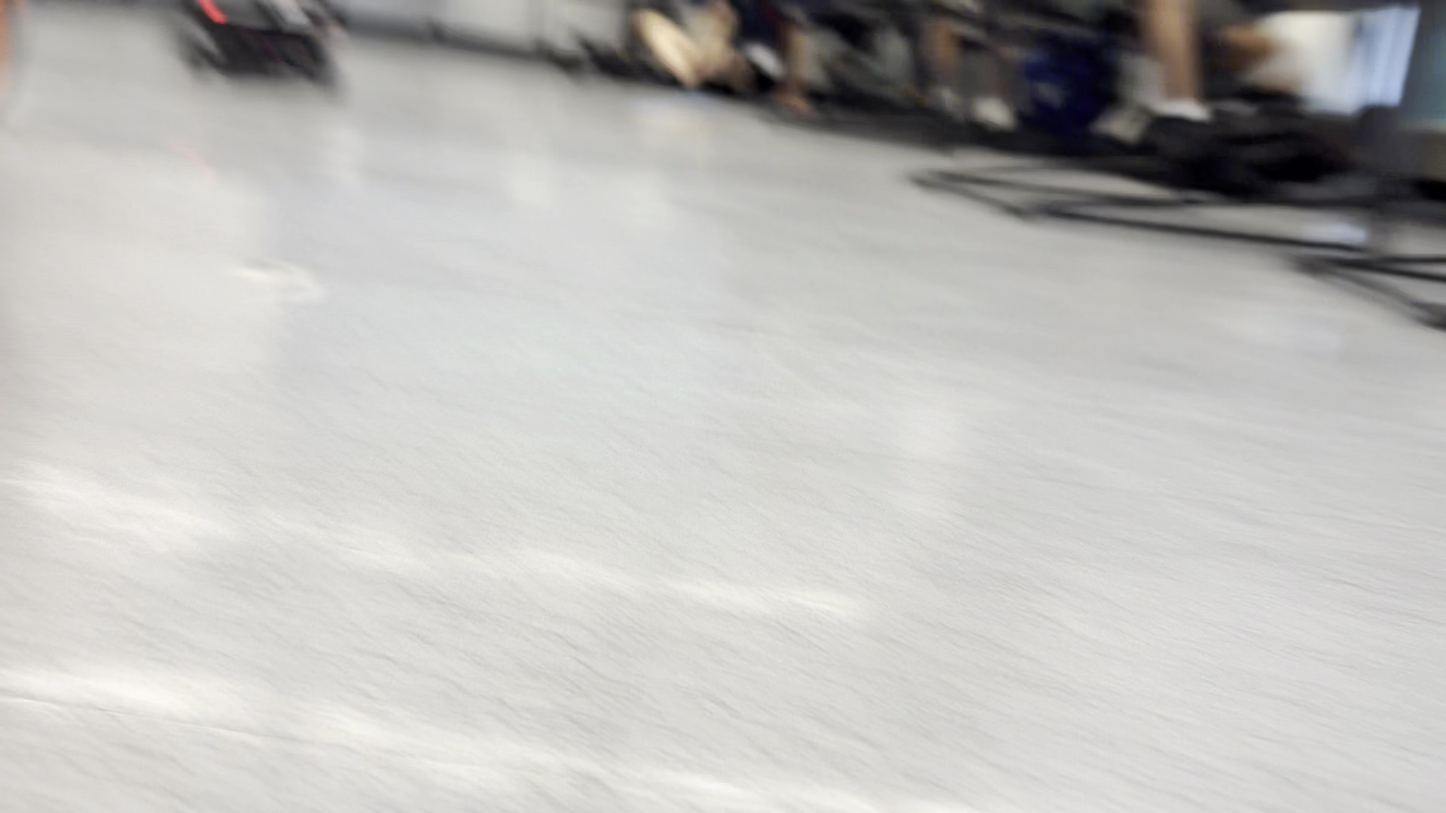racecar: (178, 0, 337, 88)
